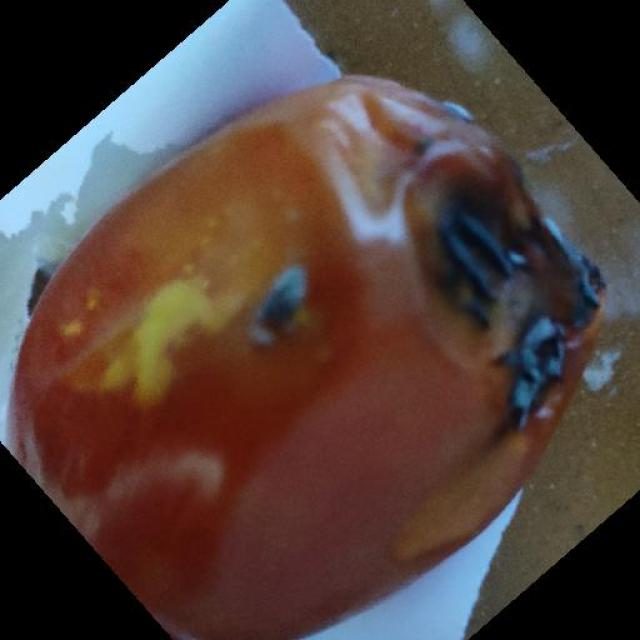Stale_tomato: (79, 80, 588, 597)
